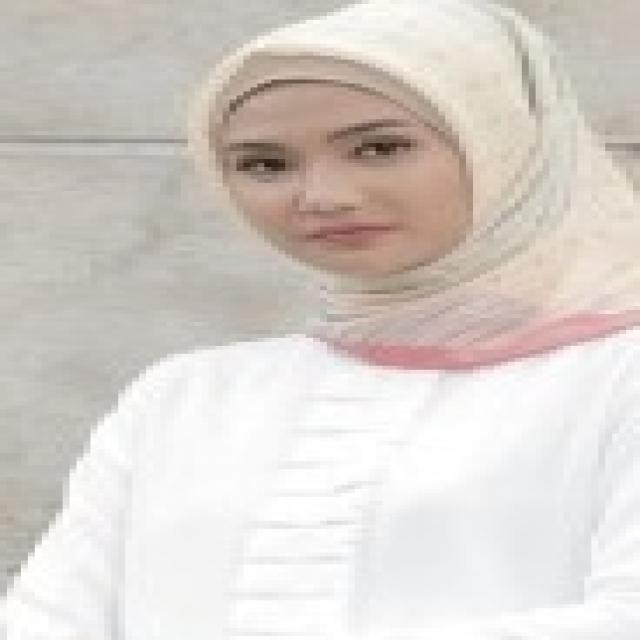head: (184, 1, 613, 287)
